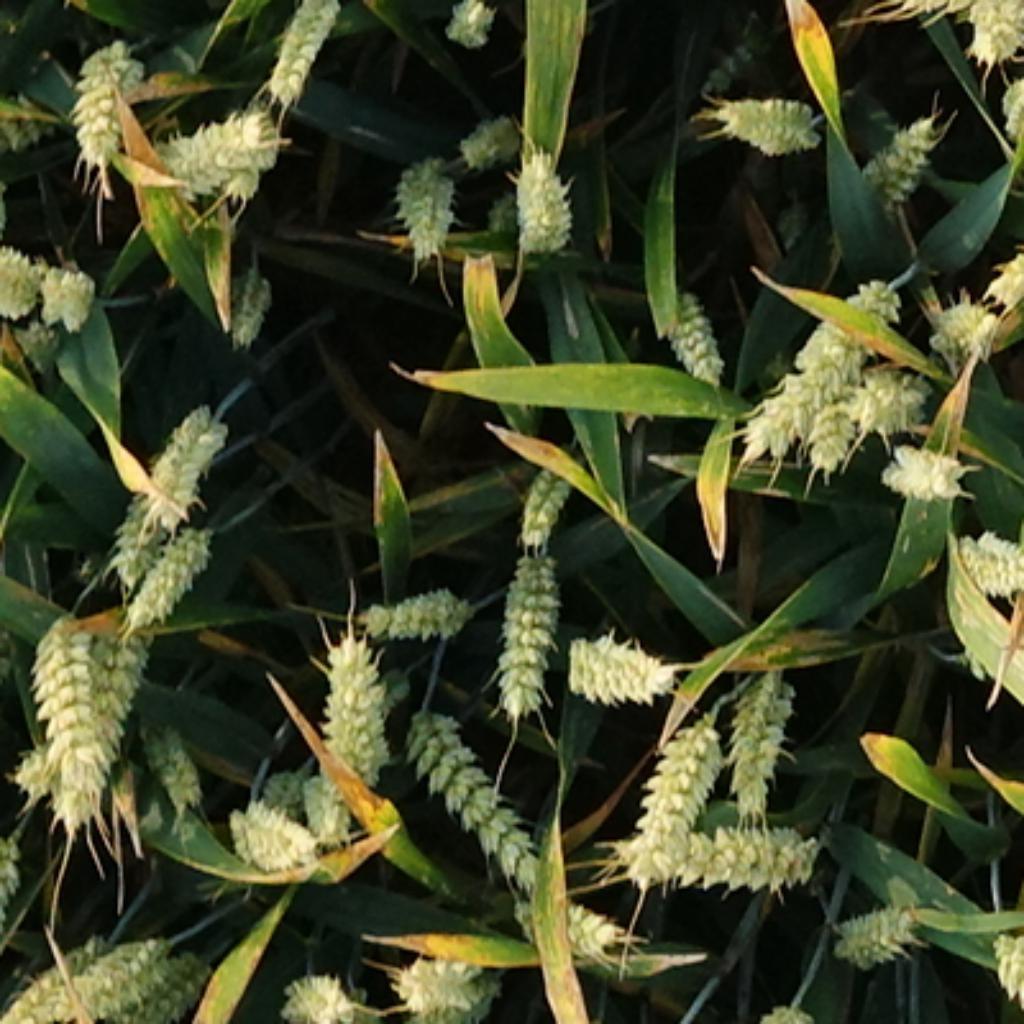0-0: (391, 696, 545, 888), (99, 407, 225, 601), (742, 304, 880, 460), (15, 596, 110, 806), (624, 801, 832, 893), (616, 706, 734, 867), (66, 629, 158, 834), (837, 97, 949, 248), (151, 92, 286, 199), (27, 932, 177, 1024), (488, 537, 565, 711), (115, 506, 225, 624), (314, 631, 401, 780), (721, 652, 803, 806), (4, 927, 126, 1023), (501, 888, 652, 965), (61, 46, 145, 177), (386, 931, 512, 1018), (560, 614, 680, 701), (101, 953, 233, 1024), (706, 74, 829, 148), (213, 800, 318, 882), (501, 140, 578, 250), (650, 273, 729, 378), (261, 0, 348, 94), (386, 143, 460, 250), (358, 570, 473, 637), (832, 898, 929, 972), (271, 960, 373, 1024), (135, 709, 202, 806), (878, 430, 972, 499), (844, 350, 924, 430), (512, 453, 581, 540), (924, 284, 1003, 358), (215, 250, 279, 340), (954, 0, 1024, 79), (33, 257, 102, 337), (950, 528, 1024, 602), (476, 176, 550, 250), (2, 232, 66, 317), (696, 28, 780, 92), (294, 779, 361, 852), (803, 391, 860, 473), (453, 99, 524, 163), (773, 189, 821, 268), (17, 742, 66, 819), (993, 903, 1024, 1021), (257, 751, 314, 815), (837, 268, 903, 322), (986, 227, 1024, 319), (437, 0, 501, 43)
